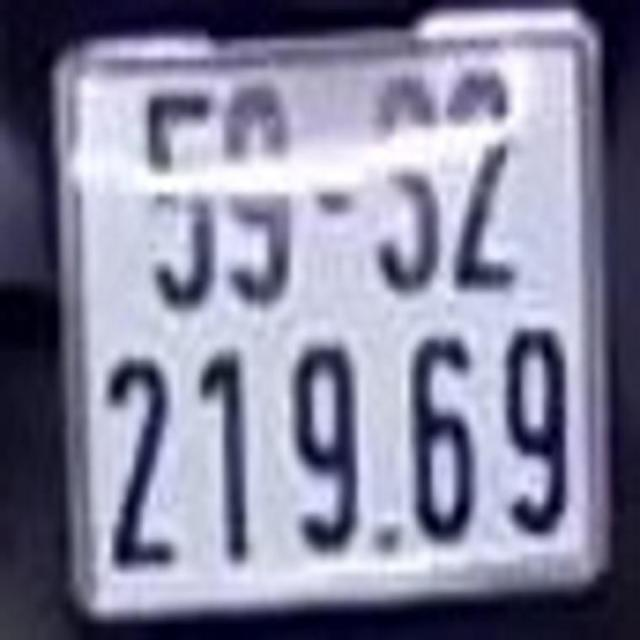1: (202, 361, 252, 561)
2: (104, 360, 190, 564), (451, 78, 525, 294)
5: (142, 78, 222, 300)
6: (404, 330, 472, 529)
9: (214, 86, 294, 302), (288, 341, 362, 548), (498, 320, 564, 530)
S: (375, 84, 444, 290)
